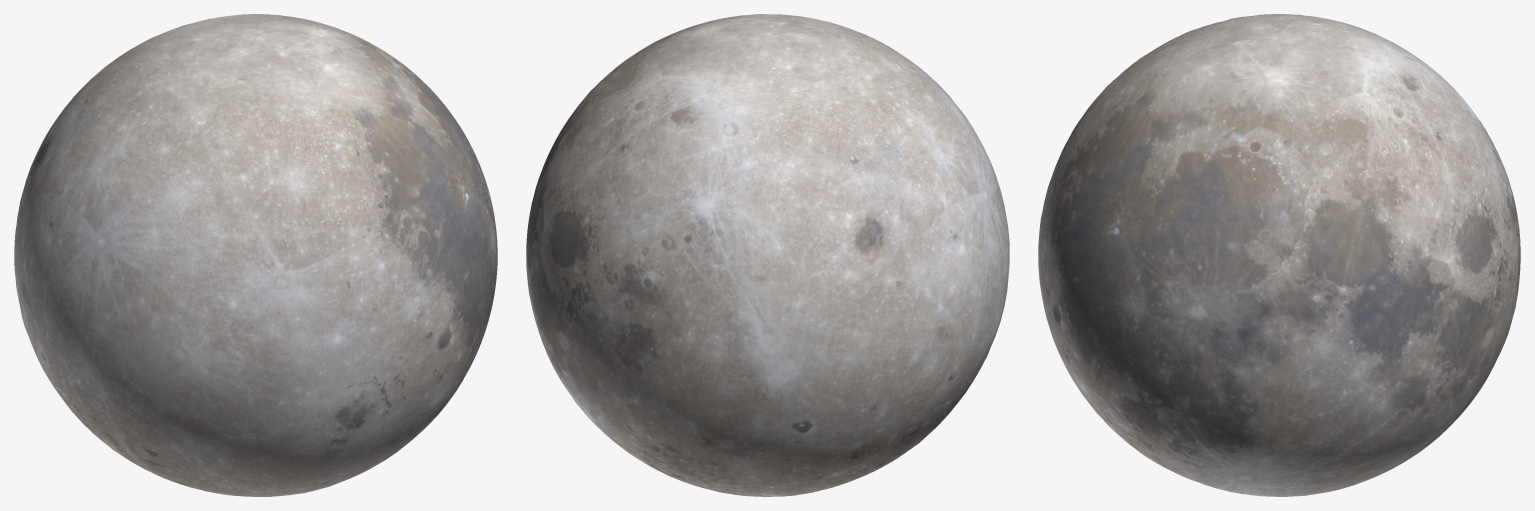
The model's file is moon.glb.
The picture shows the model from 3 angles, left to right: view 1: azimuth 30°, elevation 25°; view 2: azimuth 150°, elevation 25°; view 3: azimuth 270°, elevation 25°; orthographic projection.
Parts seen in each view (by area): view 1: Moon.002; view 2: Moon.002; view 3: Moon.002.
Part boxes in pixels (bbox=[...]): Moon.002: bbox=[14, 14, 497, 496]; Moon.002: bbox=[526, 14, 1009, 496]; Moon.002: bbox=[1038, 14, 1520, 496].
Bounding box in the file's own units: 2 × 2 × 2.
1 material, 1 textured.
